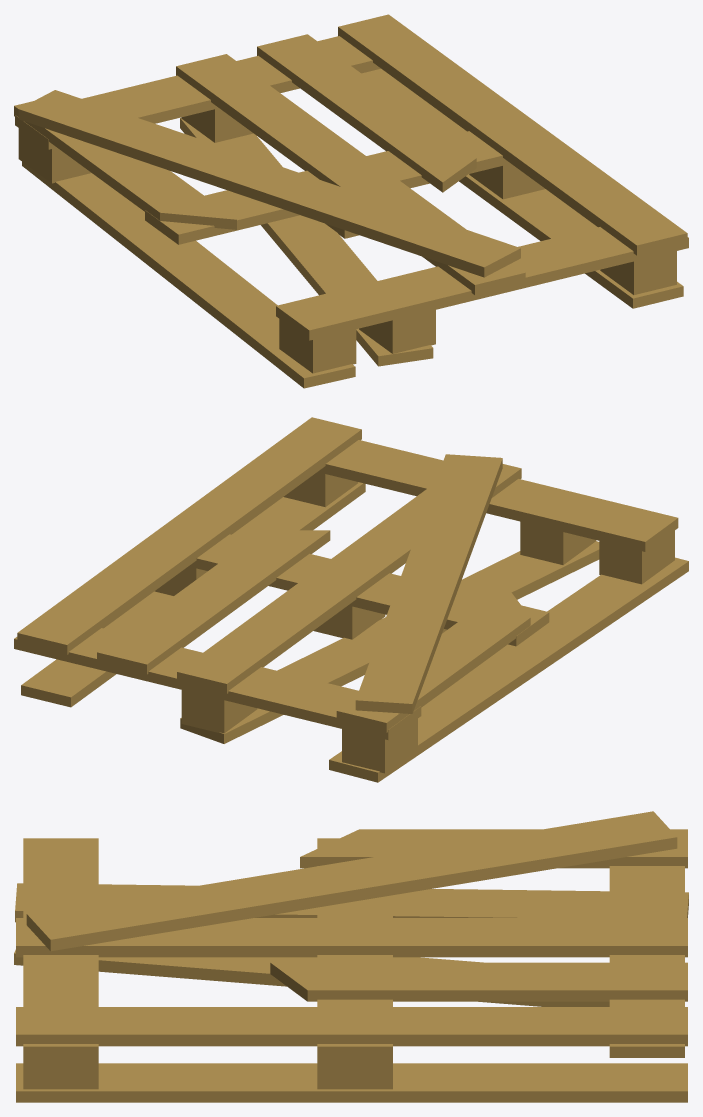
Rendered from Pallet Broken.glb.
The picture shows the model from 3 angles, top to bottom: view 1: azimuth 30°, elevation 25°; view 2: azimuth 150°, elevation 25°; view 3: azimuth 270°, elevation 25°; orthographic projection. The views are drawn at different scales.
Parts seen in each view (by area): view 1: Pallet_Broken; view 2: Pallet_Broken; view 3: Pallet_Broken.
Part boxes in pixels (x1,y1,x2,y2): Pallet_Broken: (14, 14, 688, 388); Pallet_Broken: (14, 417, 688, 782); Pallet_Broken: (14, 811, 688, 1102).
Size of the model in its own units: 0.9173 by 0.1639 by 1.22.
1 material, 1 textured.
